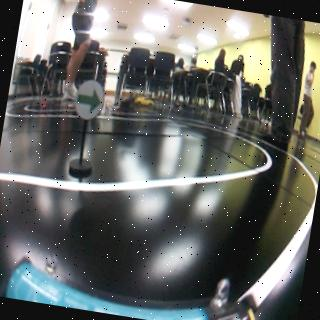right: (70, 76, 112, 126)
